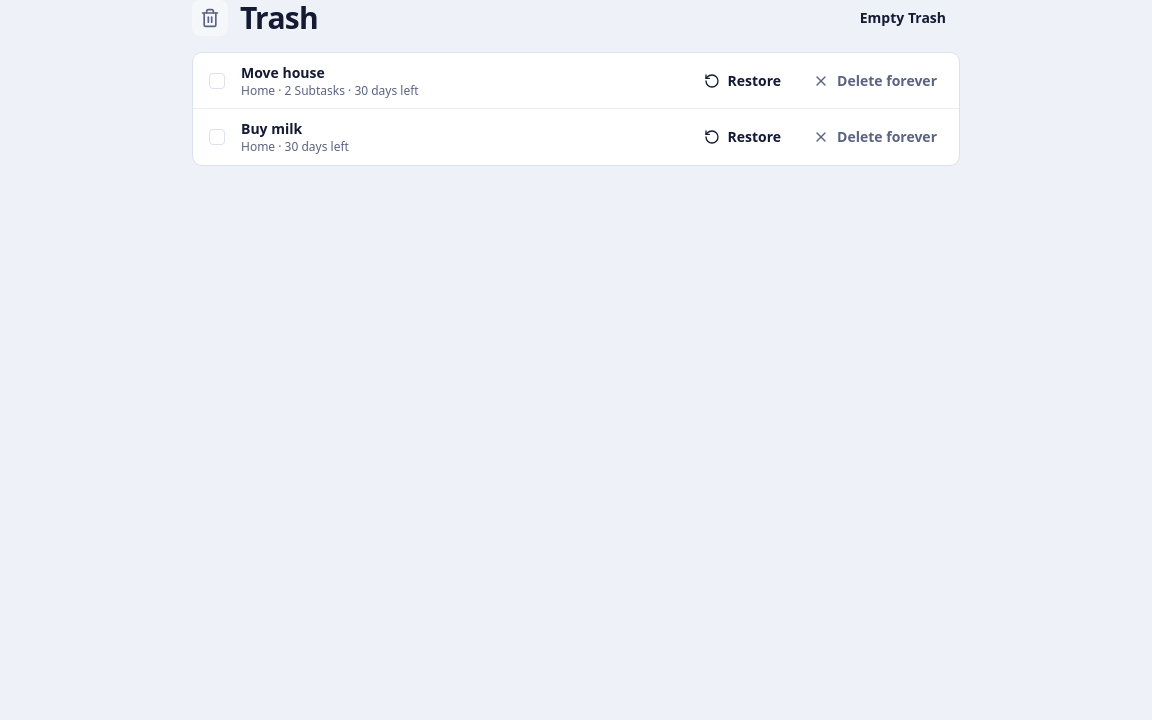
Test: The Trash › deletes a Task forever from its row once confirmed
The image size is (1152, 720).
What coordinates should you click on to do the following:
click the button with aria-label "Delete “Move house” forever"
I would click on:
 (875, 80)
Its box is [799,62,951,98].
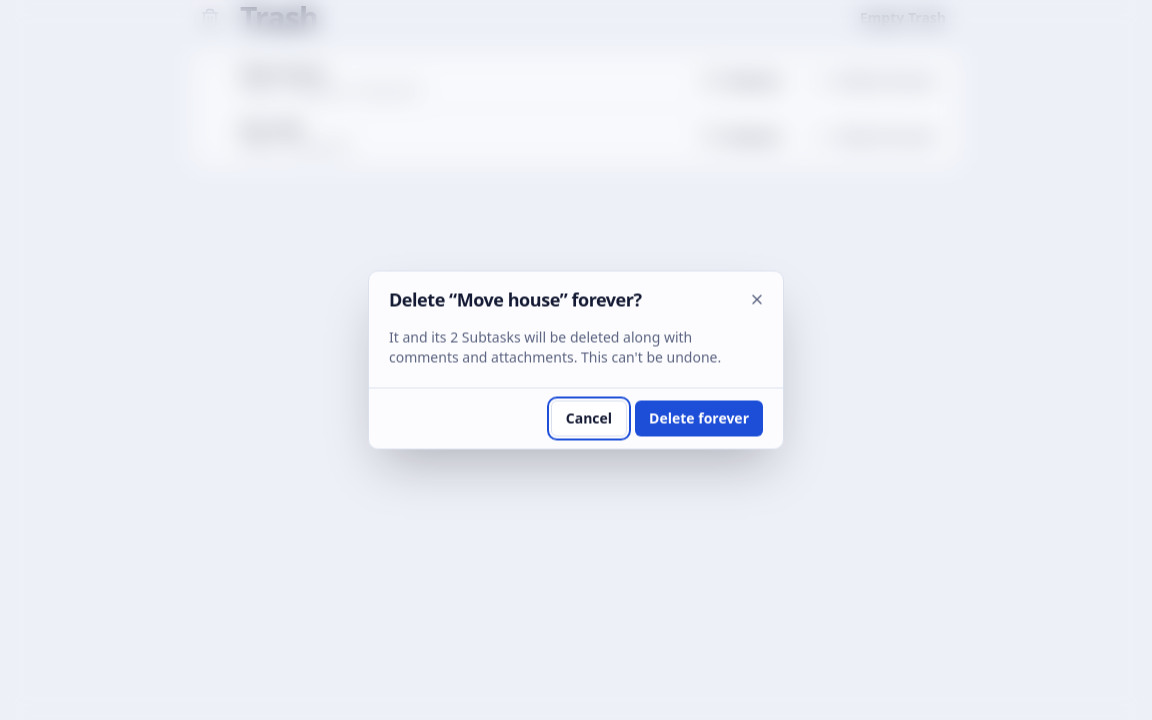
Now the text "It and its 2 Subtasks" is shown, box [389,328,521,346]
What coordinates should you click on to do the following:
click the button "Delete forever"
I would click on:
 (699, 418)
Its box is [635,400,763,436].
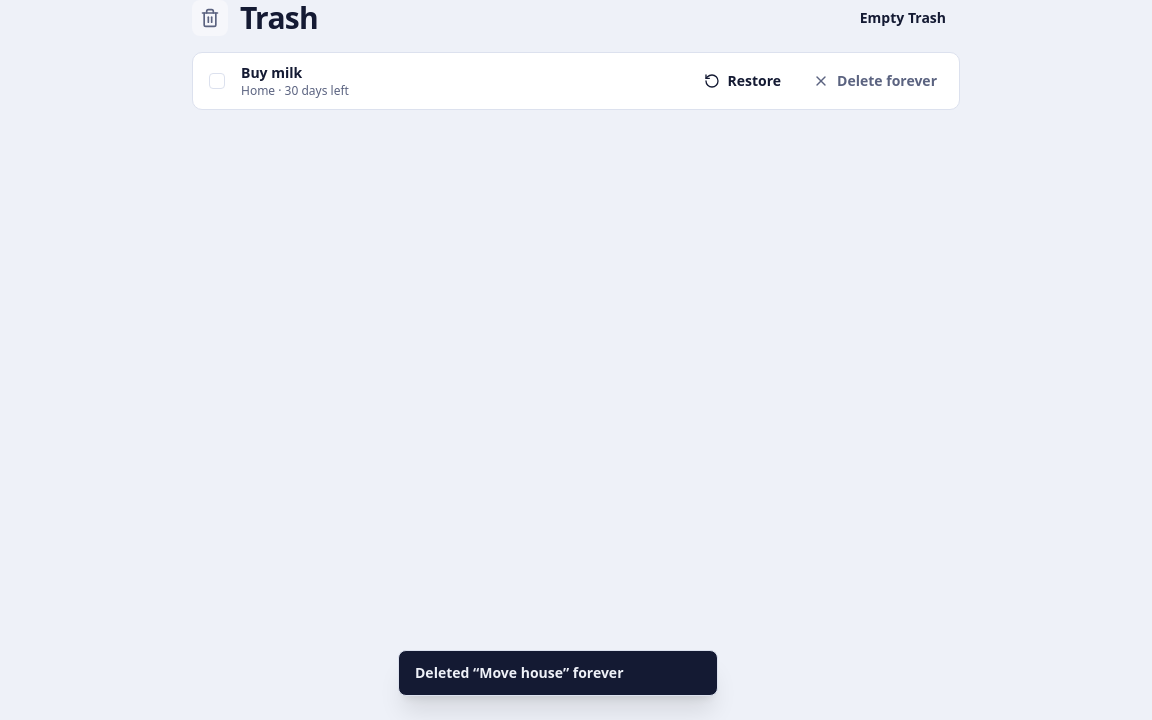
Now the text "Deleted “Move house” forever" is shown, box [415,663,624,683]
